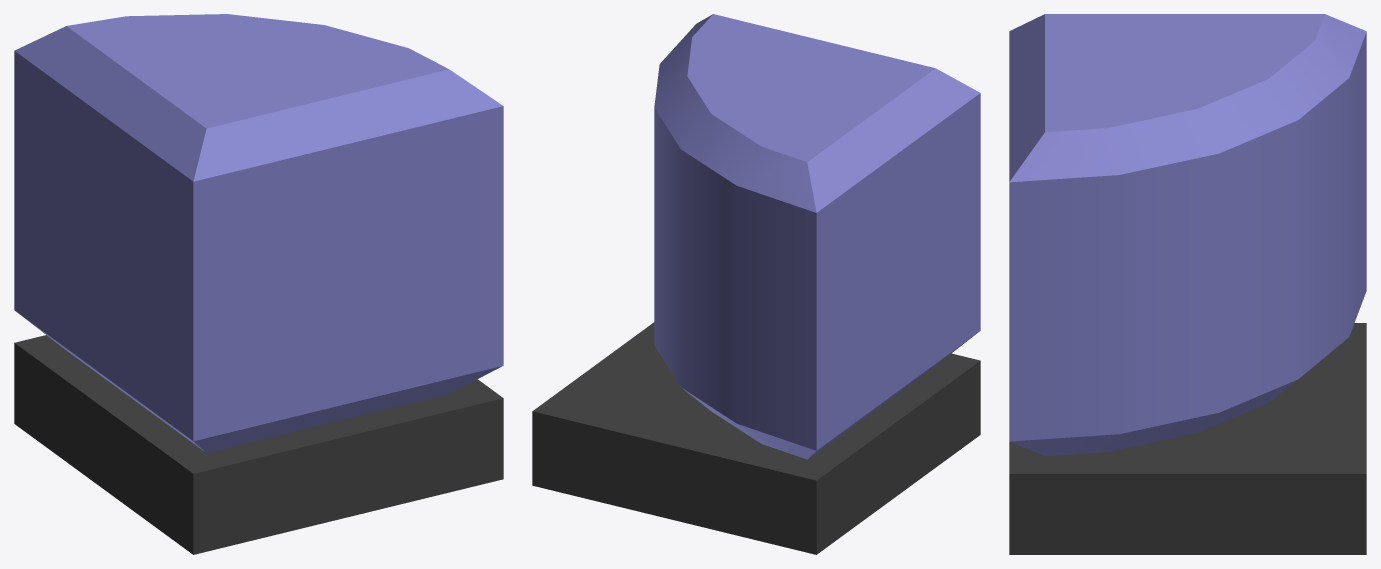
Rendered from WallCylinder.fbx.
3 renders of one model, left to right at view 1: azimuth 30°, elevation 25°; view 2: azimuth 150°, elevation 25°; view 3: azimuth 270°, elevation 25°, orthographic. The views are drawn at different scales.
Visible parts, largest first — view 1: polySurface13; view 2: polySurface13; view 3: polySurface13.
Boxes of the visible parts, x1,y1,x2,y2 form: polySurface13: (14, 14, 503, 554); polySurface13: (532, 14, 980, 554); polySurface13: (1009, 14, 1366, 554).
Bounding box in the file's own units: 1 × 1.25 × 1.
